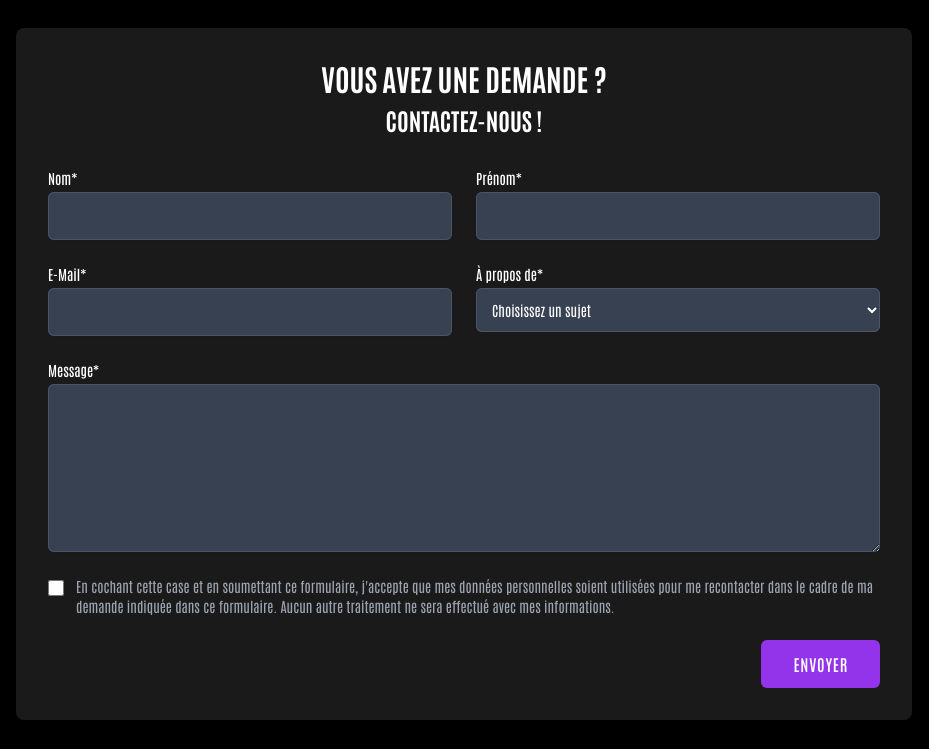
Scenario: ContactView — form validation › shows a lastName error when last name is missing
In the field with id "firstName": (678, 216) [476,192,880,240], type "Marie"
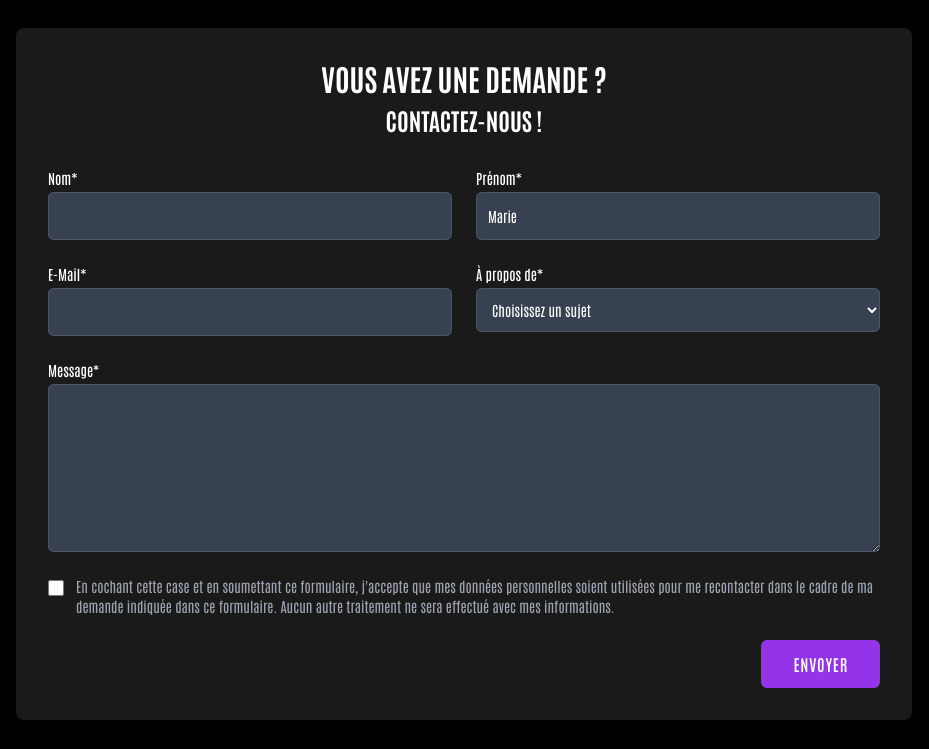
In the field with id "email": (250, 312) [48,288,452,336], type "marie@example.com"
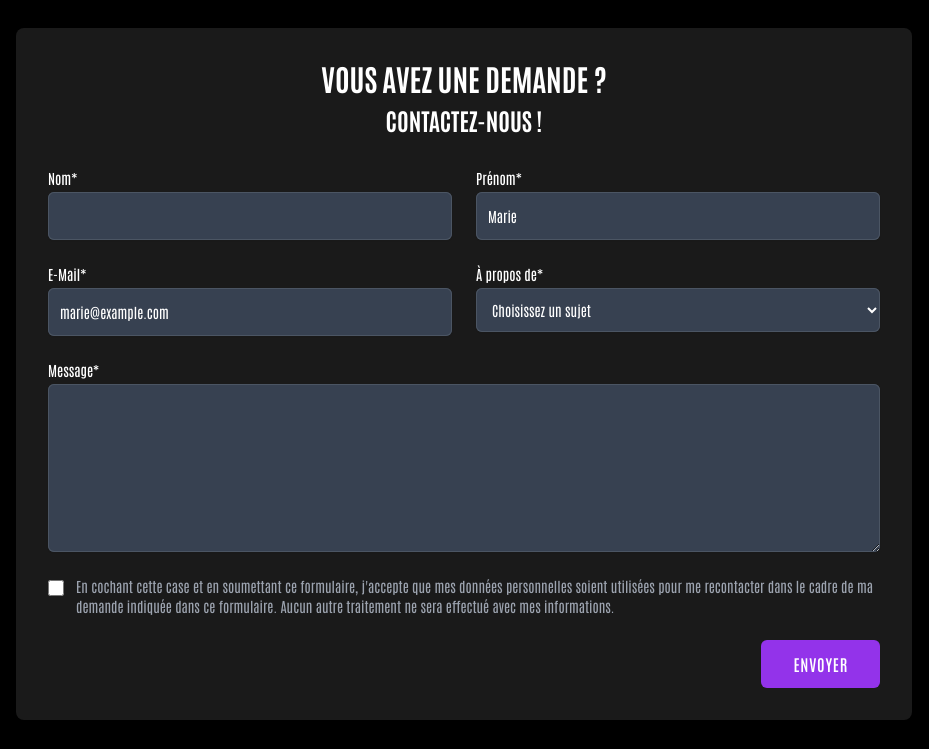
Select "Autre" in the dropdown with id "about": (678, 310) [476,288,880,332]
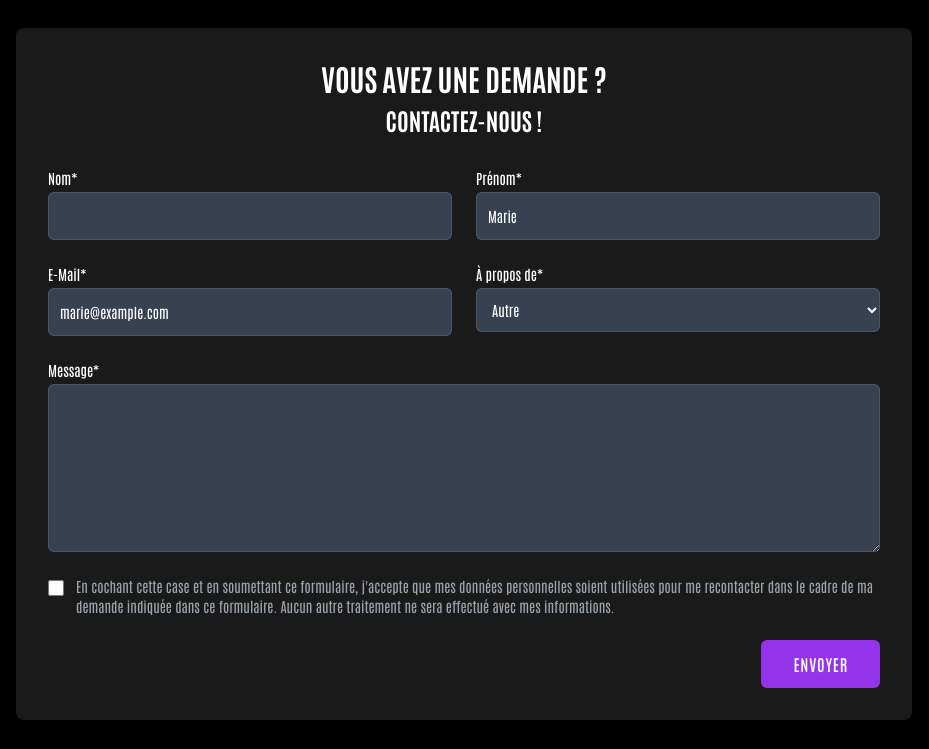
In the text box with id "message": (464, 468) [48,384,880,552], type "Bonjour"
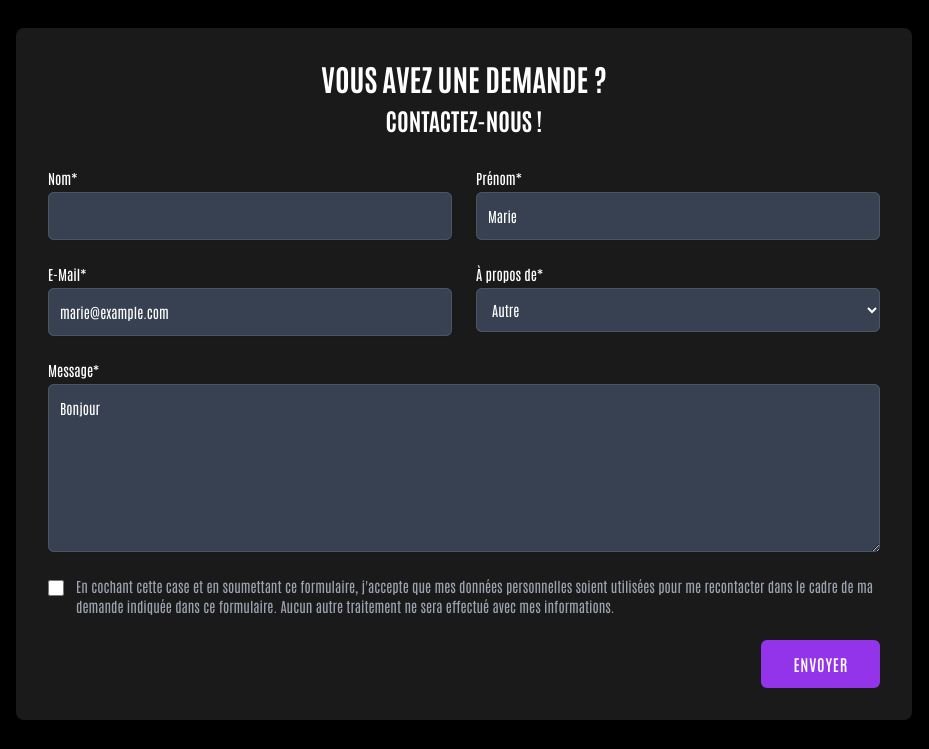
Click the checkbox with id "consent": (56, 588) [48,580,64,596]
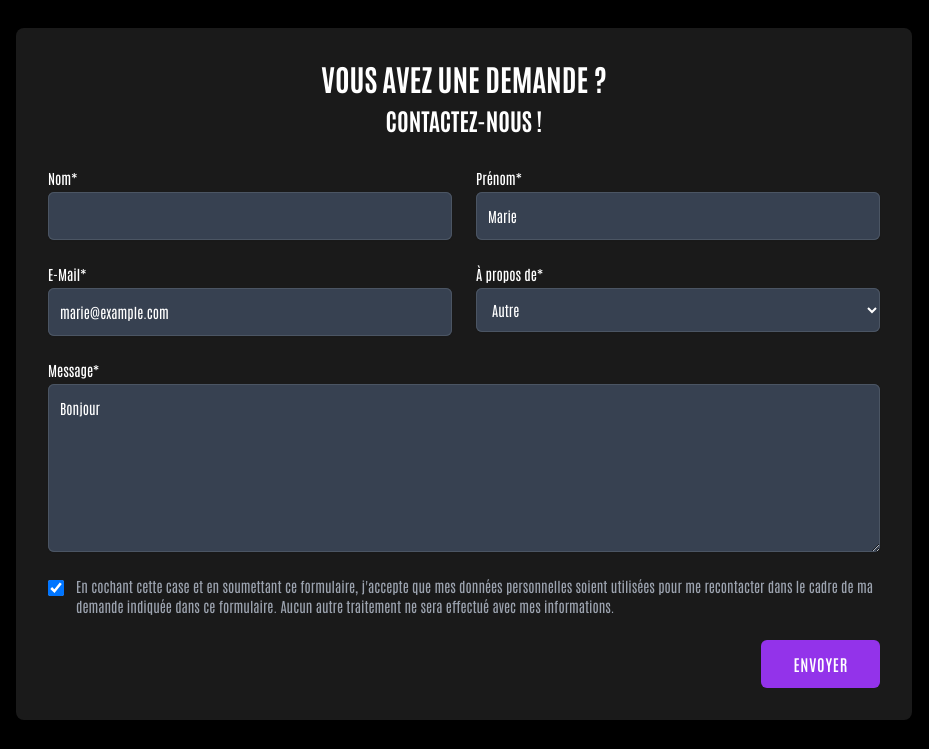
Submit the form
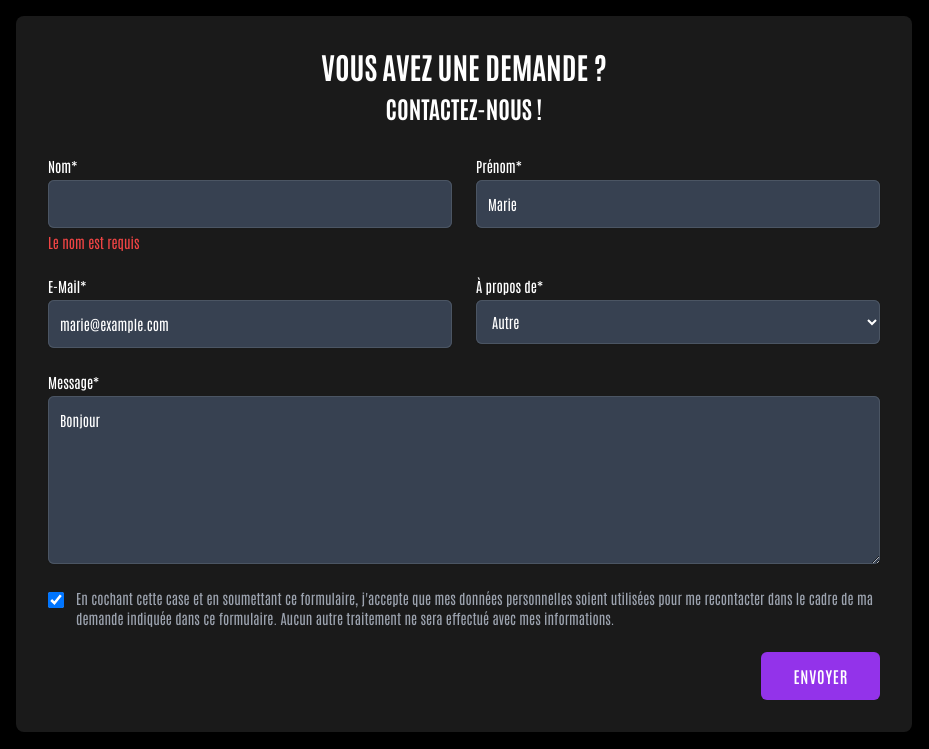
Check: the text "Le nom est requis" is shown, box [48,233,140,251]
